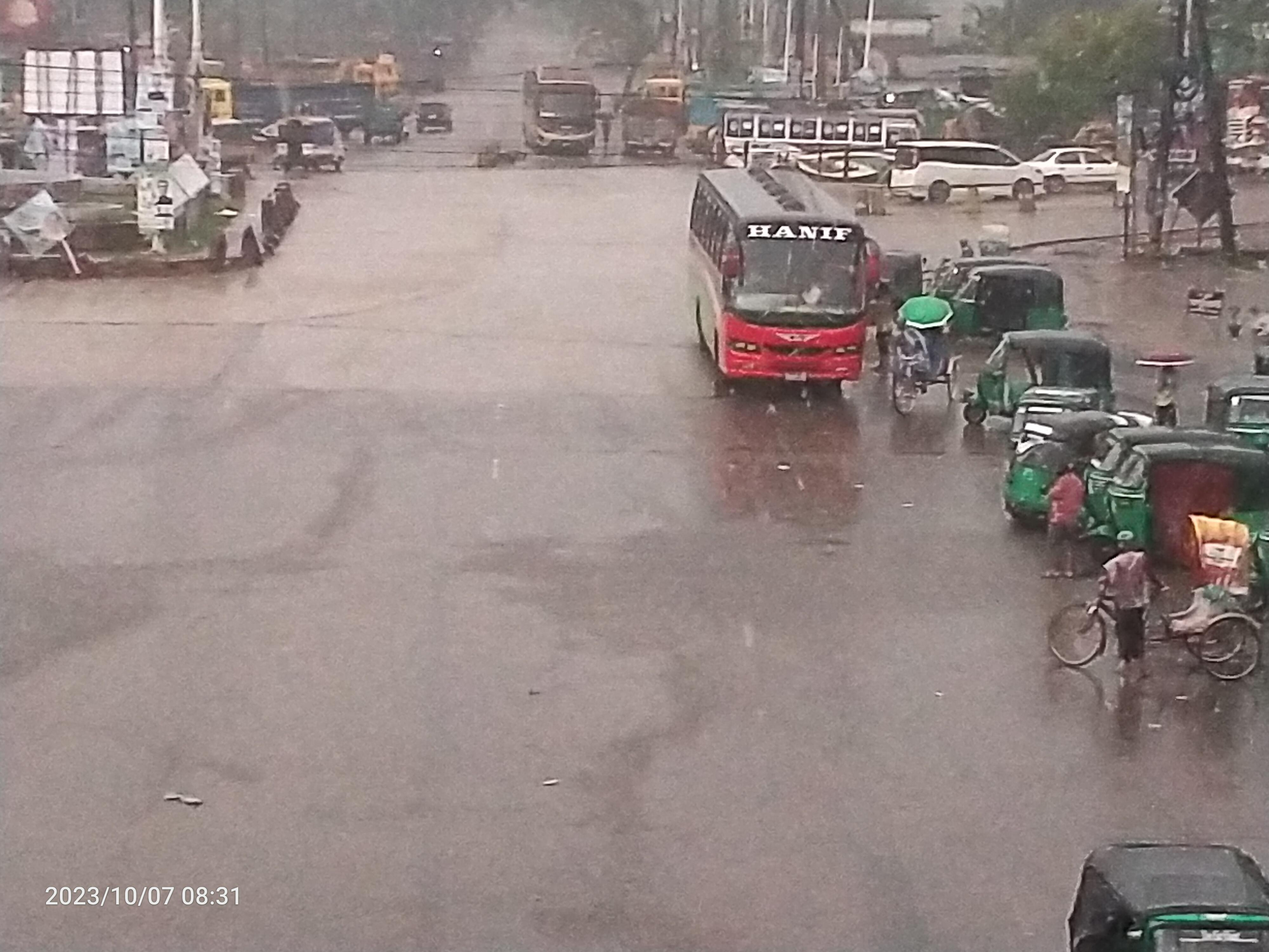Bus: (662, 143, 888, 423), (702, 95, 952, 192), (503, 39, 610, 169), (1190, 56, 1269, 186)
Car: (1020, 500, 1269, 690), (876, 127, 1051, 216), (1029, 122, 1142, 202), (261, 107, 352, 175), (408, 83, 464, 146)
Truck: (193, 50, 403, 146)
